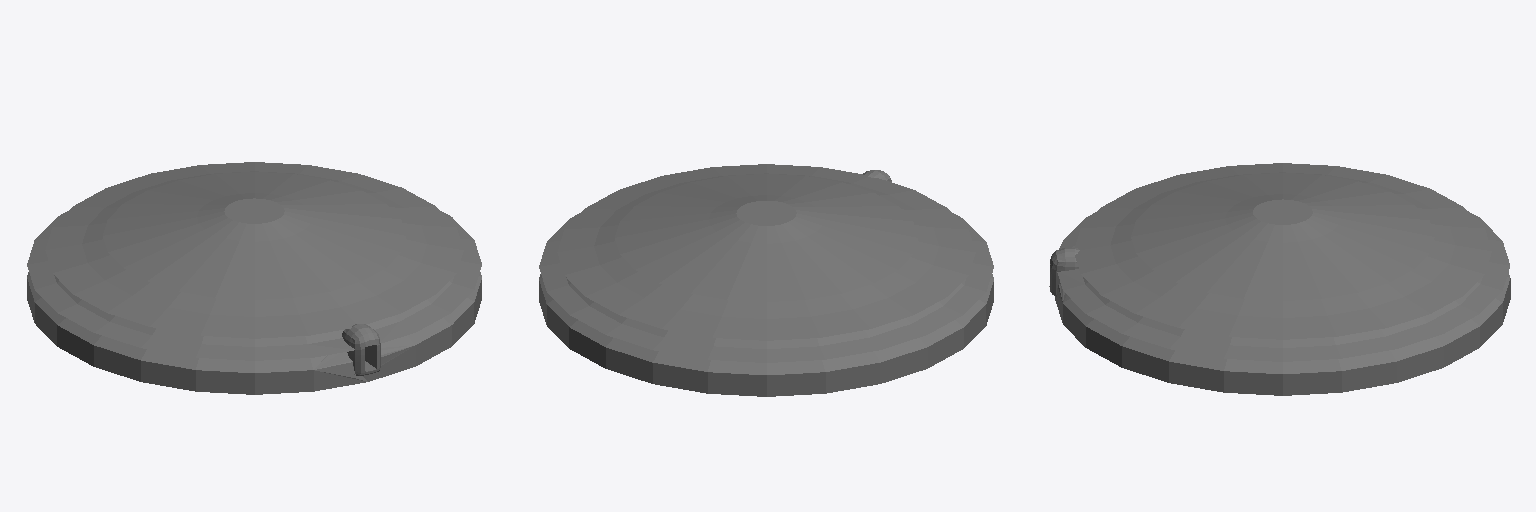
The model's file is CloneFactory_BaseV3_002.obj.
3 renders of one model, left to right at view 1: azimuth 30°, elevation 25°; view 2: azimuth 150°, elevation 25°; view 3: azimuth 270°, elevation 25°, orthographic.
Parts seen in each view (by area): view 1: CloneFactory_BaseV3_002.obj; view 2: CloneFactory_BaseV3_002.obj; view 3: CloneFactory_BaseV3_002.obj.
Boxes of the visible parts, box(x1,y1,x2,y2) form: CloneFactory_BaseV3_002.obj: box(27, 162, 481, 394); CloneFactory_BaseV3_002.obj: box(539, 164, 993, 396); CloneFactory_BaseV3_002.obj: box(1049, 163, 1510, 395).
Bounding box in the file's own units: 1000 × 212 × 1012.